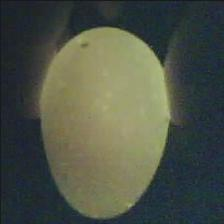infertile: (38, 24, 170, 218)
